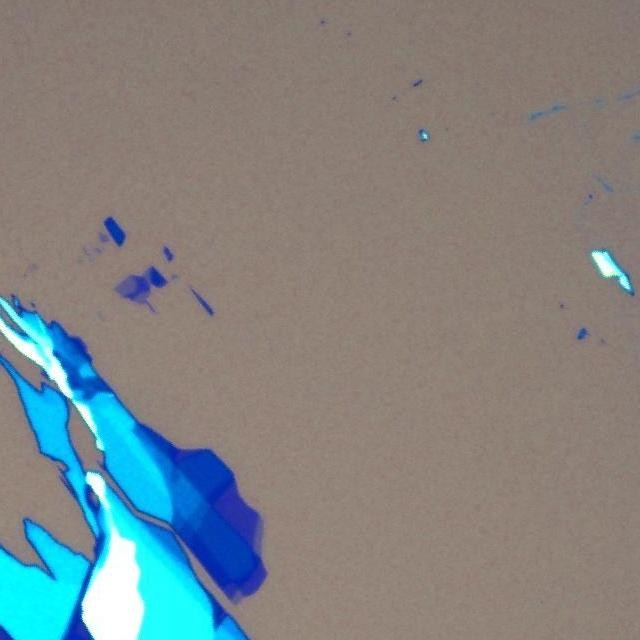monolayer-eWW4: (253, 513, 266, 555), (112, 278, 134, 296), (134, 291, 150, 305), (232, 590, 244, 604), (142, 266, 151, 282)
